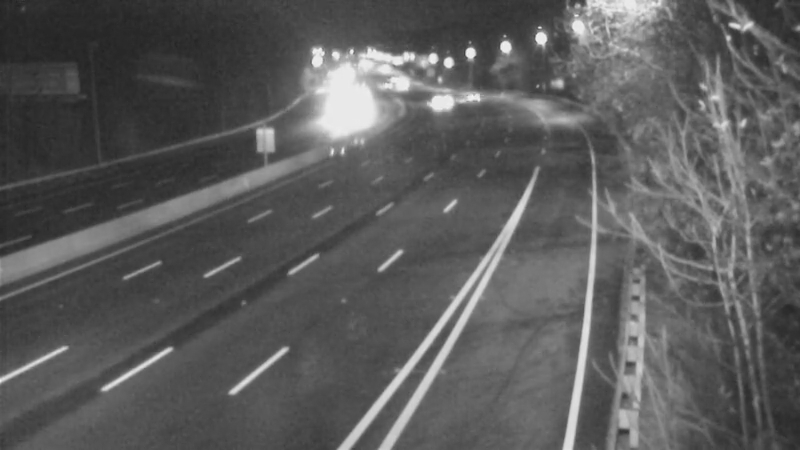vehicle: (443, 72, 493, 122), (420, 78, 470, 128)
